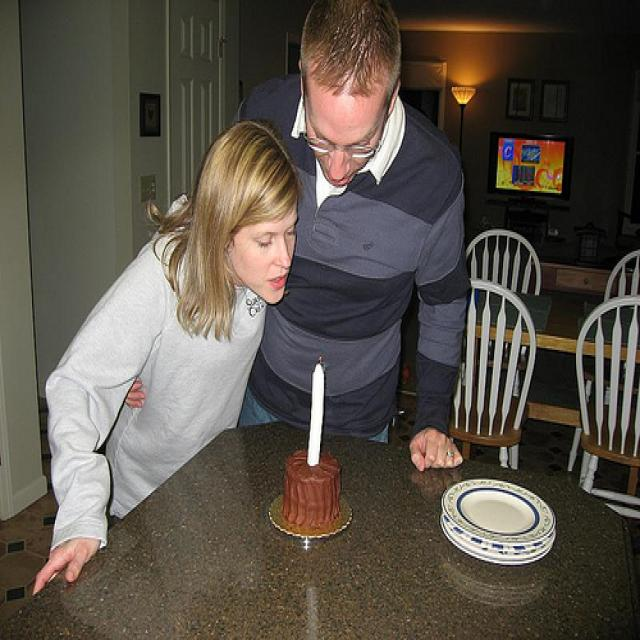chair: (449, 285, 535, 469), (573, 298, 640, 515), (465, 231, 542, 297), (604, 249, 639, 299)
dining table: (0, 358, 639, 636), (513, 291, 604, 429)
